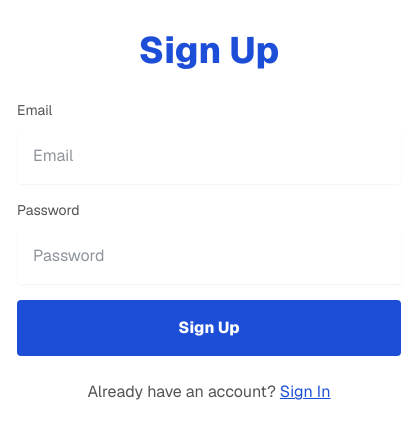
Test: SignUp page › shows the API error and skips signIn when /api/sign-up fails
Step 1. Type "a@b.com" into the field labelled "Email" → (209, 156), box [17,128,401,184]
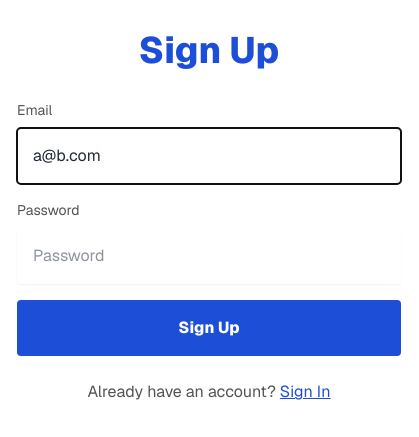
Step 2. Type "ChrisIsTheBest42!" into the password field labelled "Password" → (209, 256), box [17,228,401,284]
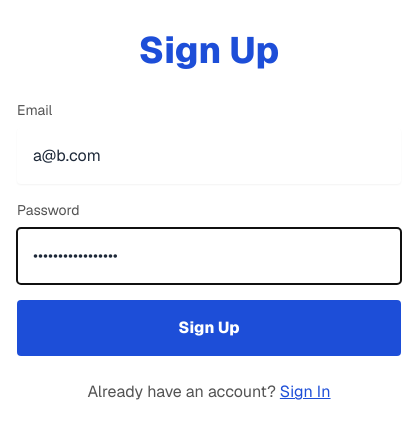
Step 3. Click the button "Sign Up" → (209, 328), box [17,300,401,356]
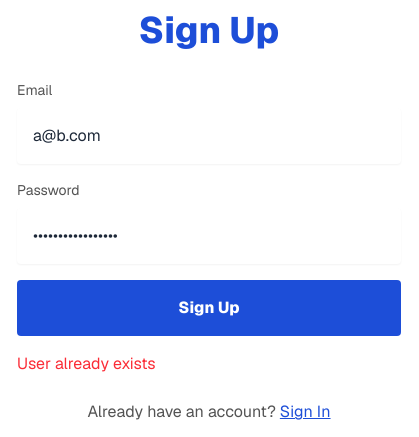
Check: the text "User already exists" is shown, box [17,353,156,374]
